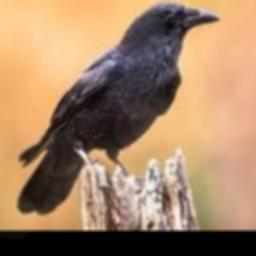Crow: (16, 2, 221, 215)
